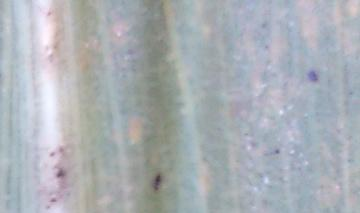tarspot: (150, 172, 164, 194), (305, 68, 319, 83), (55, 167, 68, 179), (47, 195, 57, 204), (272, 147, 281, 156), (44, 9, 53, 18), (47, 151, 56, 159), (259, 21, 268, 29), (44, 202, 51, 210), (262, 43, 268, 49)
